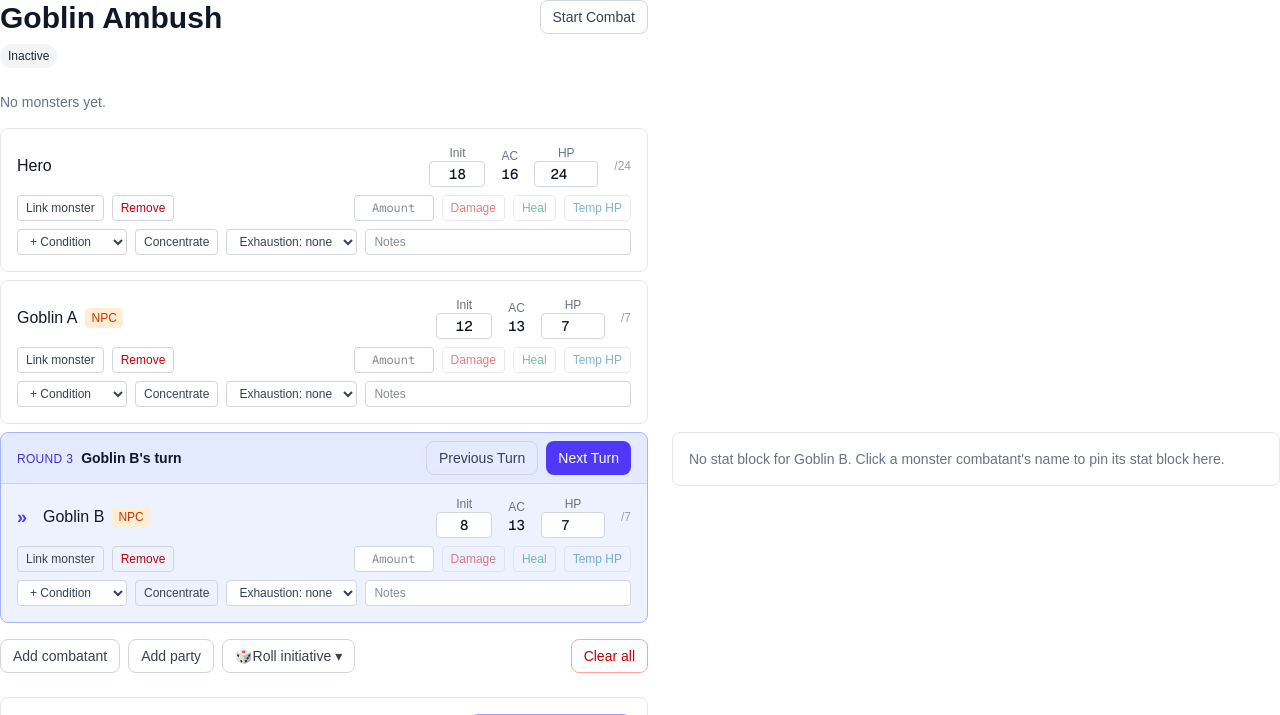
Test: InitiativeTrackerPage › remove combatant + clear all › clears all combatants after confirm: empty array plus turn/round reset
The image size is (1280, 715).
Expected: the heading "Goblin Ambush" is shown, [0,0,222,36]
Click the button "Clear all": (609, 656) [571,639,648,673]
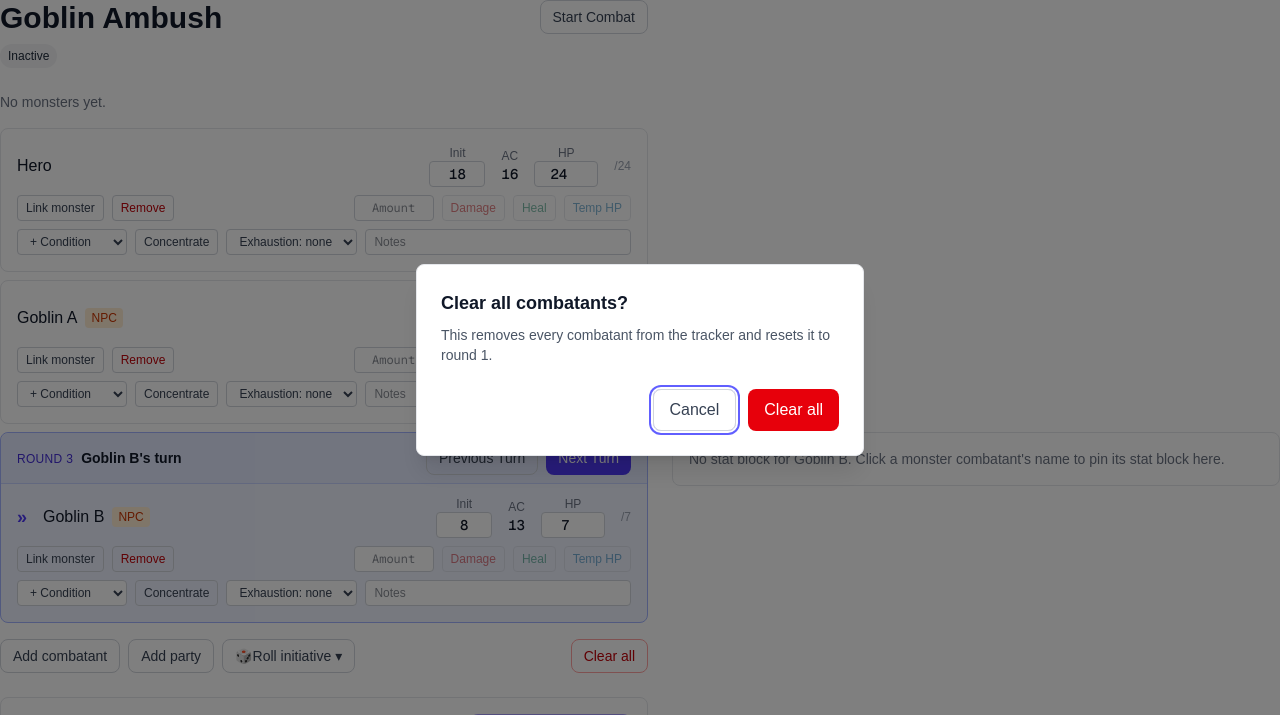
Expected: the dialog shows "round 1", [441,327,830,363]
Click the button "Clear all": (794, 410) [748,389,839,431]
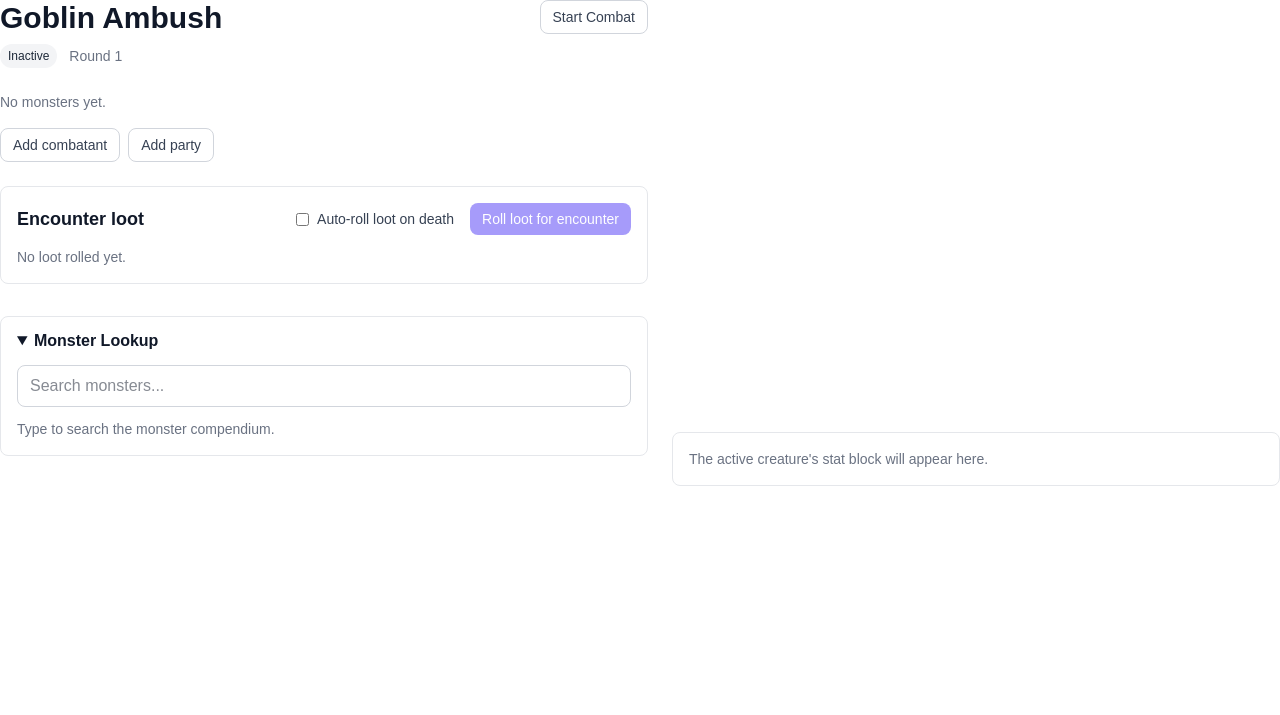
Expected: the text "Hero" is gone
Expected: the button "Clear all" is gone
